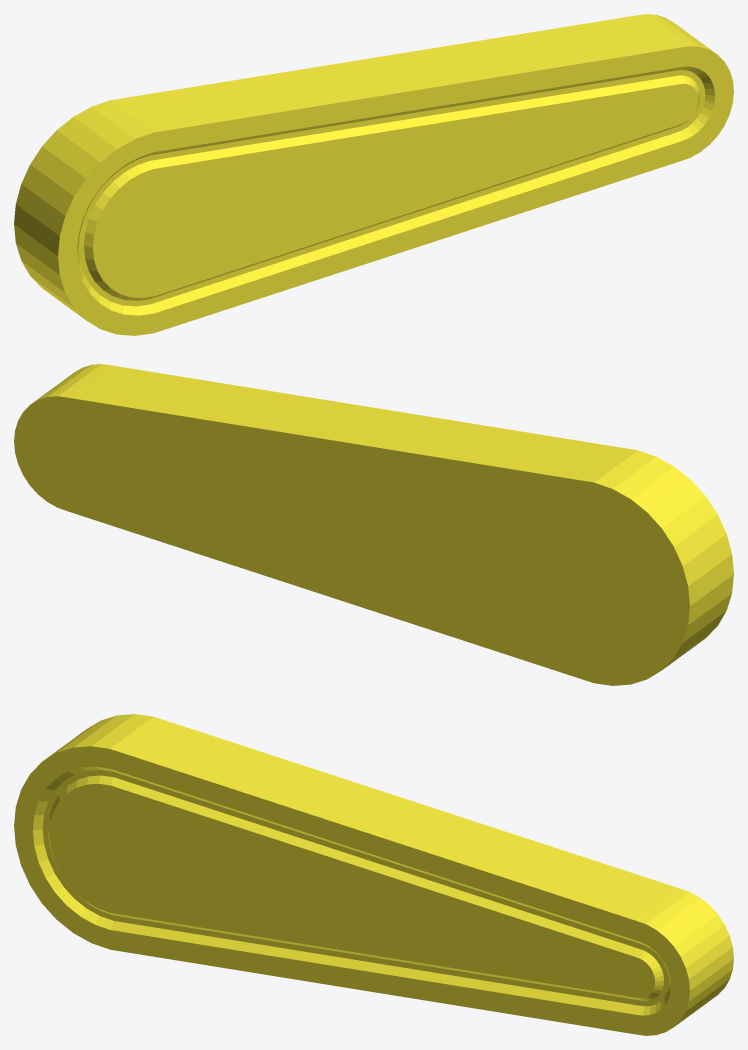
File: wheelArm.fbx
The picture shows the model from 3 angles, top to bottom: view 1: azimuth 30°, elevation 25°; view 2: azimuth 150°, elevation 25°; view 3: azimuth 330°, elevation 25°; orthographic projection.
Parts seen in each view (by area): view 1: arm; view 2: arm; view 3: arm.
Boxes of the visible parts, box(x1,y1,x2,y2) form: arm: box(14, 14, 733, 335); arm: box(14, 364, 733, 685); arm: box(14, 714, 733, 1035).
Bounding box in the file's own units: 705 × 200 × 79.46.
